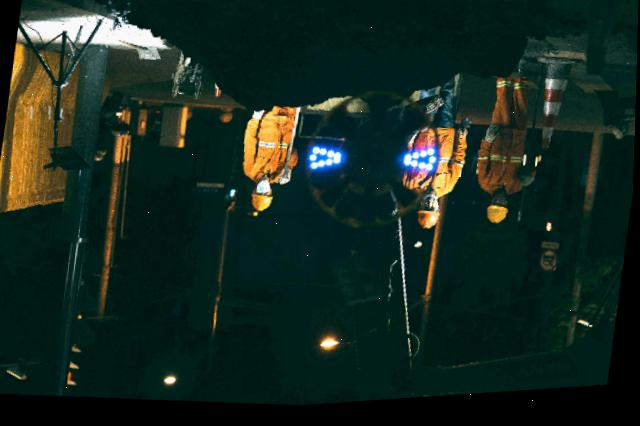helmet: (244, 192, 278, 215), (411, 212, 442, 235), (485, 210, 514, 232)
vest: (474, 131, 556, 211), (401, 130, 464, 206), (243, 108, 300, 183)
